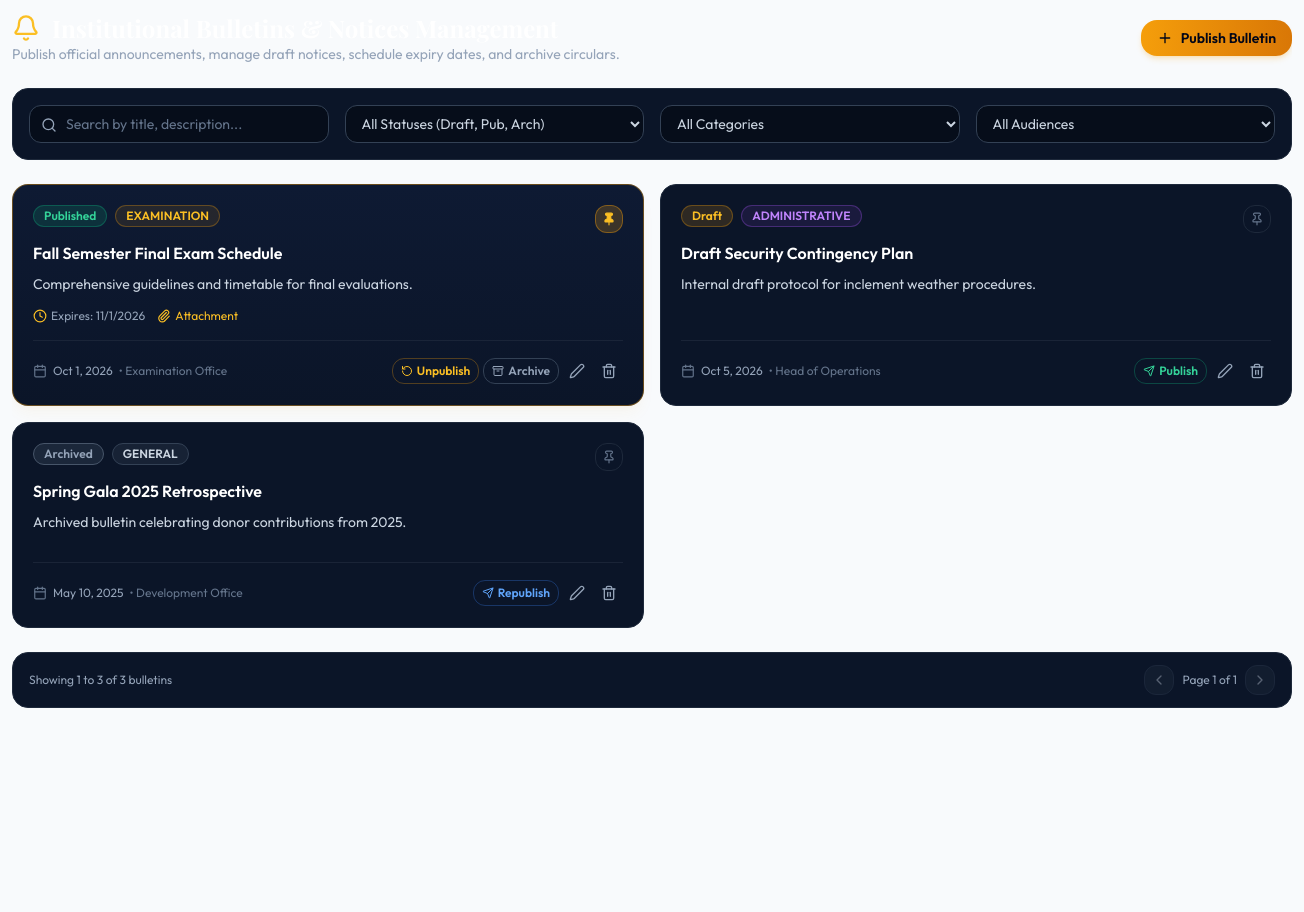
Scenario: PHASE 15 — Notice and Event Management Frontend Test Suite › Admin Notices Management Section › should search notices by query text
Expected: the heading "Fall Semester Final Exam Schedule" is shown, top-left (33, 243), bottom-right (282, 263)
Type "Weather" into the field with test id "notice-search-input". click: (179, 124)
box: top-left (29, 105), bottom-right (328, 143)
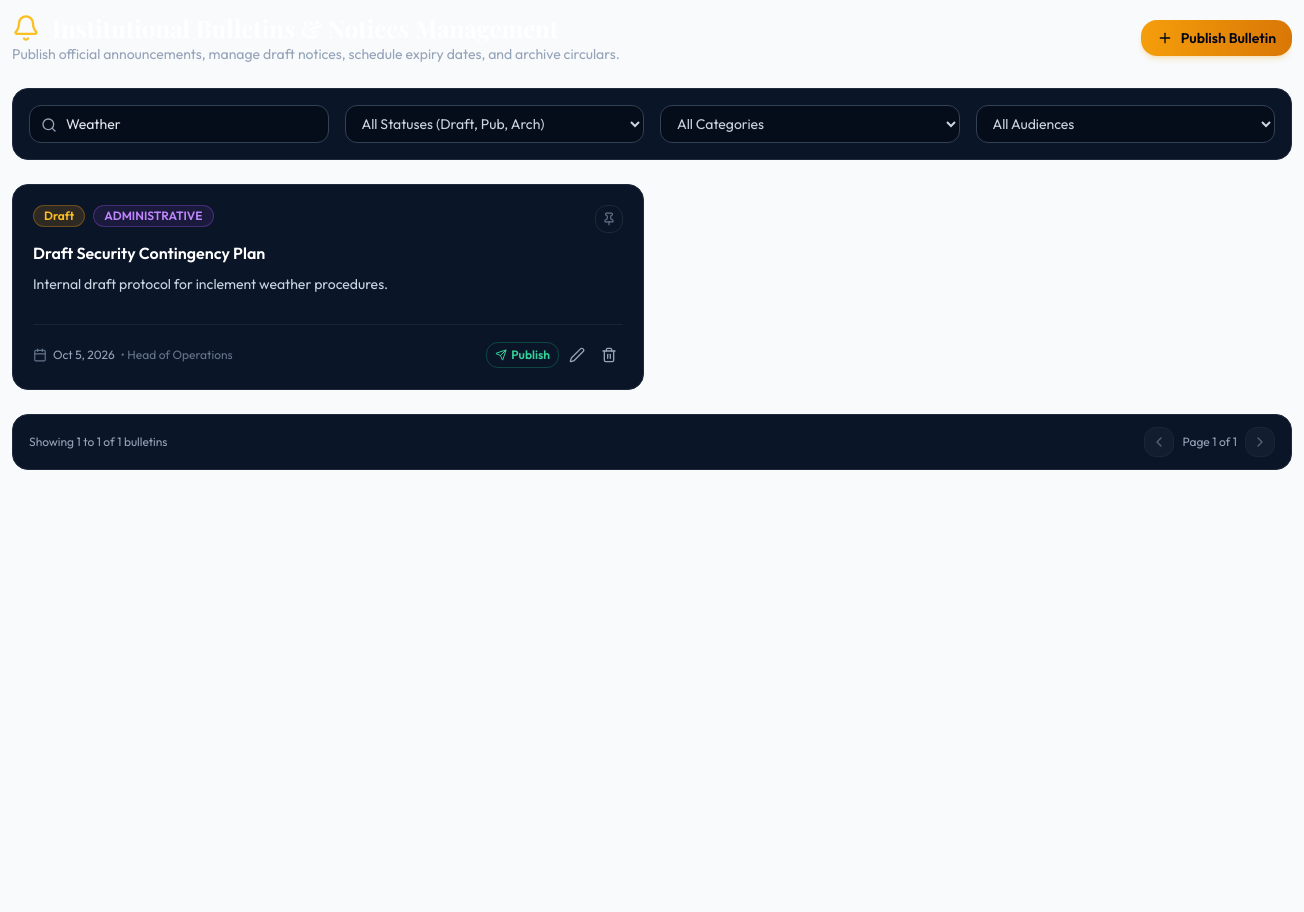
Expected: the heading "Draft Security Contingency Plan" is shown, top-left (33, 243), bottom-right (265, 263)
Now the heading "Fall Semester Final Exam Schedule" is gone
